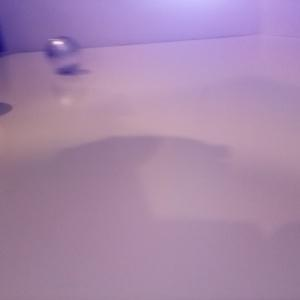alive_ball: (44, 35, 82, 73)
